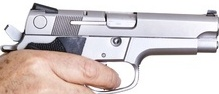pistol: (3, 1, 219, 94)
